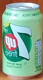sevenup: (2, 3, 41, 77)
